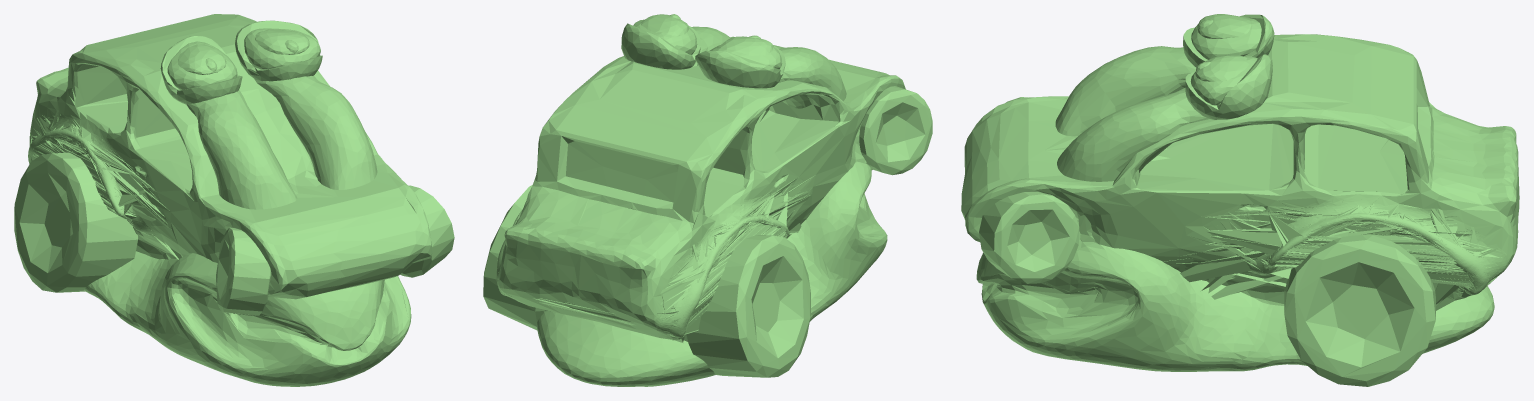
Rendered from rad-bug.glb.
3 views of the same model, side by side, from view 1: azimuth 30°, elevation 25°; view 2: azimuth 150°, elevation 25°; view 3: azimuth 270°, elevation 25° (orthographic). The views are drawn at different scales.
Visible parts, largest first — view 1: rad-bug; view 2: rad-bug; view 3: rad-bug.
Part boxes in pixels (<box>): rad-bug: <box>14,14,454,386</box>; rad-bug: <box>483,14,932,386</box>; rad-bug: <box>961,14,1519,386</box>.
Bounding box in the file's own units: 31.27 × 30.15 × 50.52.
